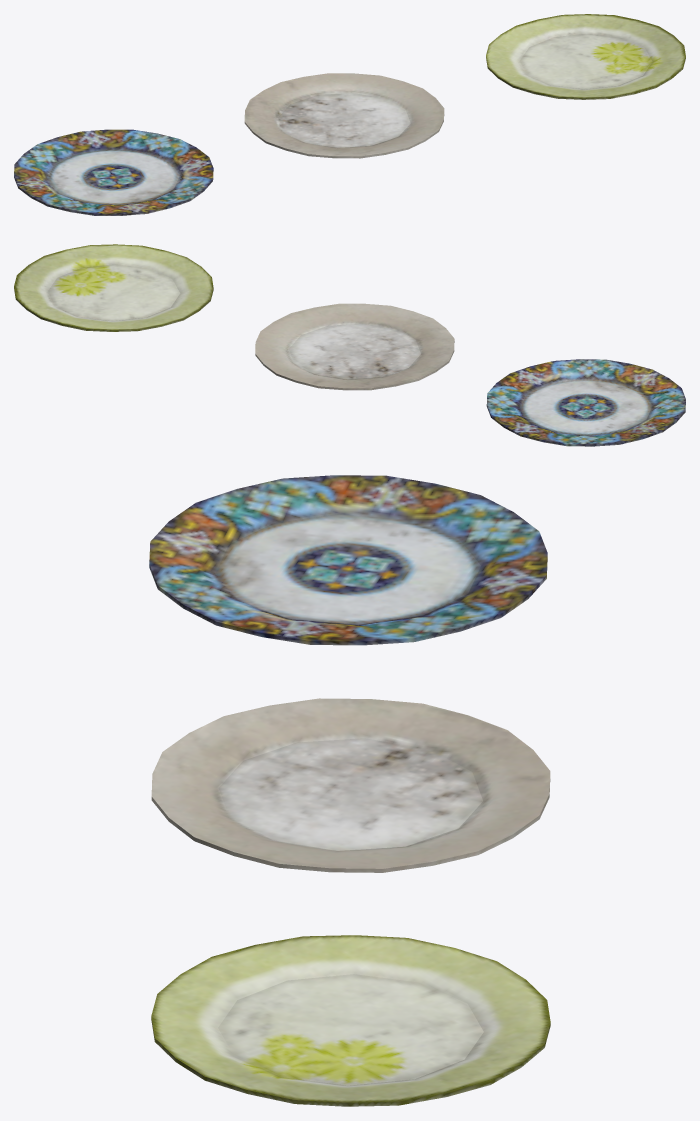
File: PlatesSet.FBX
3 renders of one model, top to bottom at view 1: azimuth 30°, elevation 25°; view 2: azimuth 150°, elevation 25°; view 3: azimuth 270°, elevation 25°, orthographic. The views are drawn at different scales.
Visible parts, largest first — view 1: Plate_02, Plate_03, Plate_01; view 2: Plate_03, Plate_02, Plate_01; view 3: Plate_01, Plate_03, Plate_02.
Part boxes in pixels (x1,y1,x2,y2): Plate_02: [14, 129, 213, 215]; Plate_03: [486, 14, 685, 99]; Plate_01: [244, 73, 444, 158]; Plate_03: [14, 244, 213, 331]; Plate_02: [486, 359, 685, 446]; Plate_01: [255, 303, 454, 390]; Plate_01: [151, 698, 550, 872]; Plate_03: [151, 935, 550, 1106]; Plate_02: [149, 475, 547, 645].
Bounding box in the file's own units: 143 × 1.81 × 38.54.
